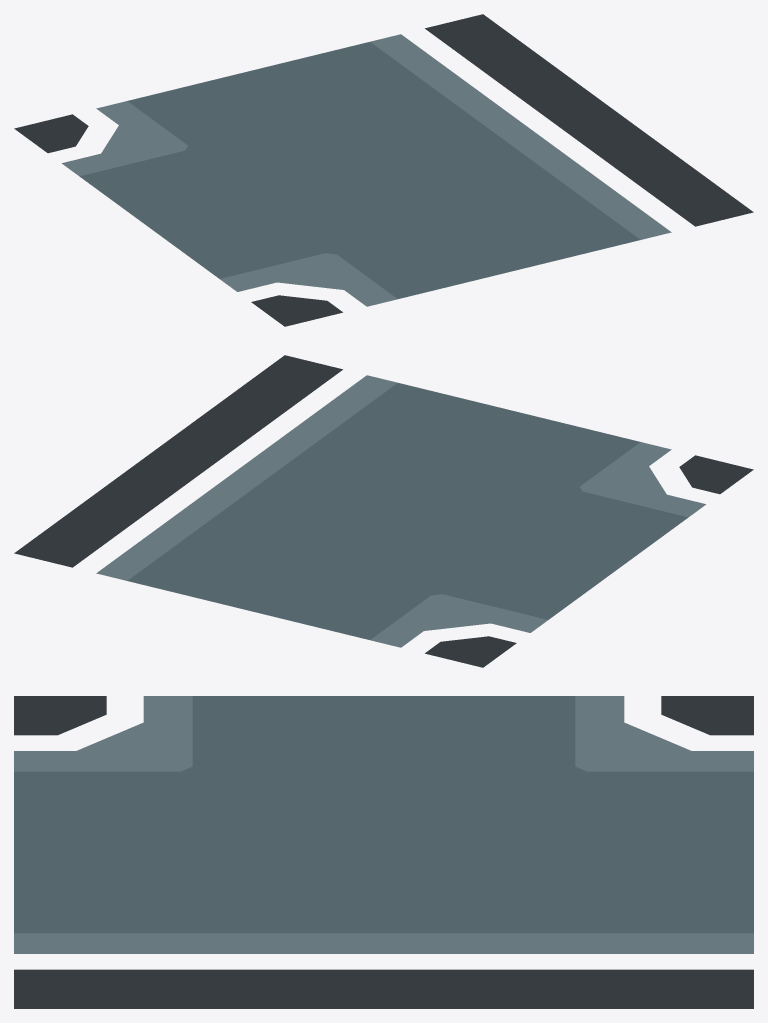
File: Ceiling_type_C_026_004.glb
3 views of the same model, one above another, from view 1: azimuth 30°, elevation 25°; view 2: azimuth 150°, elevation 25°; view 3: azimuth 270°, elevation 25° (orthographic). The views are drawn at different scales.
Parts seen in each view (by area): view 1: Ceiling_type_C_026.004; view 2: Ceiling_type_C_026.004; view 3: Ceiling_type_C_026.004.
Boxes of the visible parts, x1,y1,x2,y2 form: Ceiling_type_C_026.004: (14,14,753,326); Ceiling_type_C_026.004: (14,355,753,667); Ceiling_type_C_026.004: (14,696,753,1008).
Size of the model in its own units: 4 by 0.0618 by 4.
Materials: 2 (2 with a texture image).
